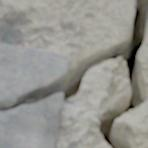broken_brick: (0, 45, 71, 110), (0, 94, 63, 147)
crack: (0, 0, 147, 147)
